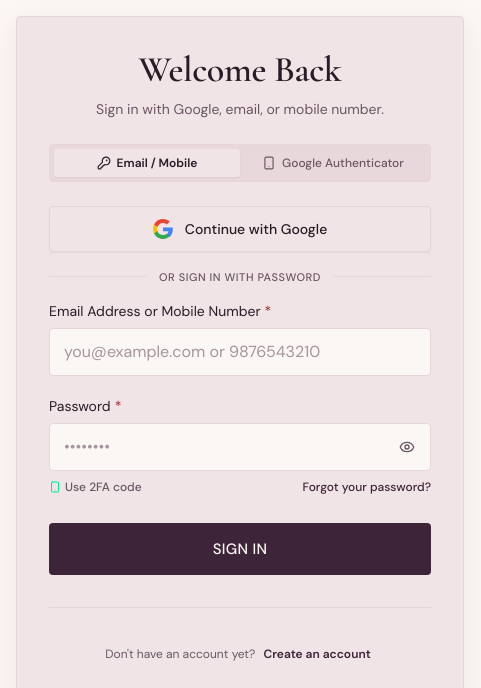
it: Clean Login & Signup with Google and Google Authenticator › executes Google Sign In when clicking Continue with Google
The image size is (481, 688).
Click the button "Continue with Google".
click(240, 230)  # box x1=49 y1=206 x2=431 y2=252
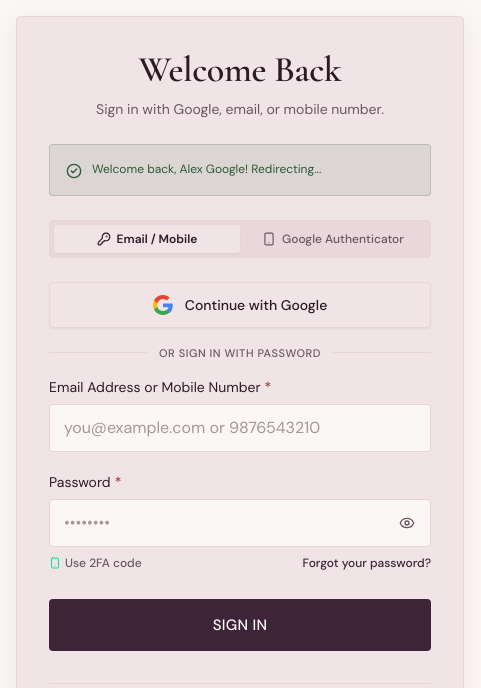
Expected: the text "Welcome back, Alex Google! Redirecting..." is shown, x1=92 y1=162 x2=321 y2=178
